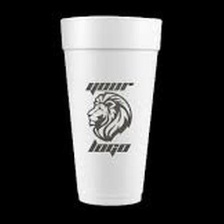paper_cup: (55, 9, 166, 211)
